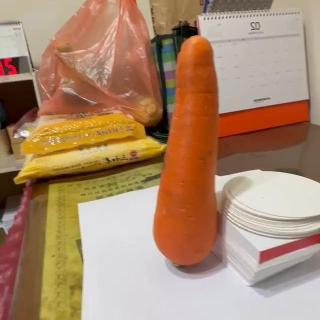carrot: (148, 35, 220, 269)
